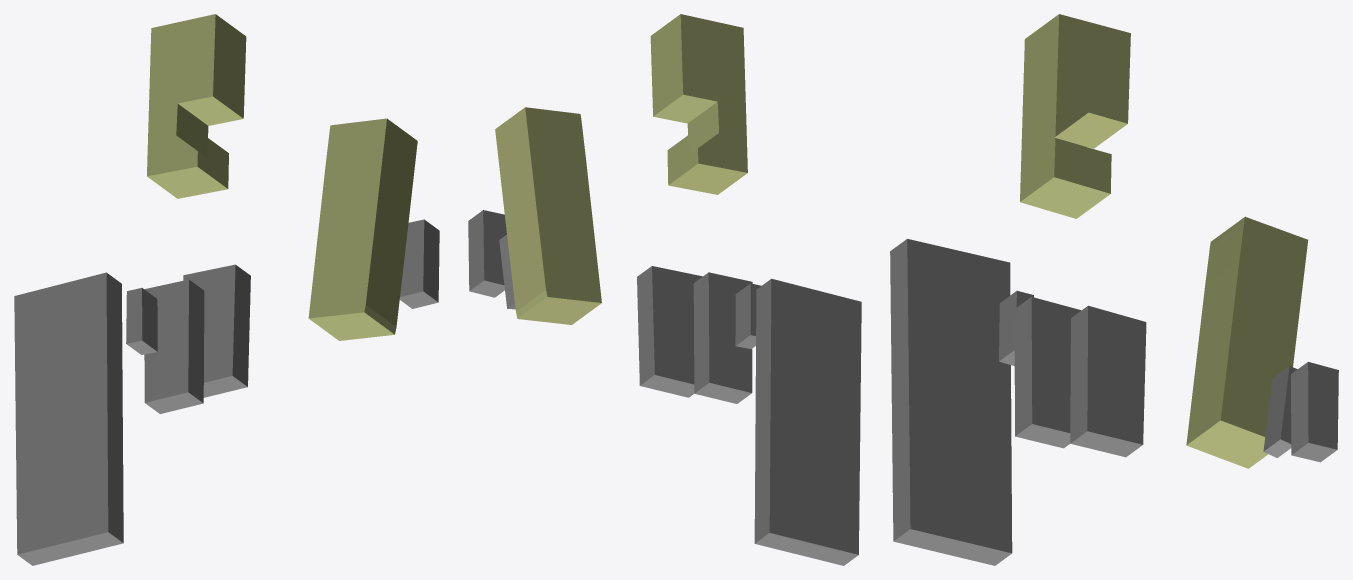
3 renders of one model, left to right at view 1: azimuth 30°, elevation 25°; view 2: azimuth 150°, elevation 25°; view 3: azimuth 330°, elevation 25°, orthographic. The views are drawn at different scales.
Parts seen in each view (by area): view 1: 0_1_2_0_0_3_2_2_2; view 2: 0_1_2_0_0_3_2_2_2; view 3: 0_1_2_0_0_3_2_2_2.
Boxes of the visible parts, x1,y1,x2,y2 form: 0_1_2_0_0_3_2_2_2: (14,14,439,565); 0_1_2_0_0_3_2_2_2: (468,14,861,565); 0_1_2_0_0_3_2_2_2: (890,14,1338,565).
Size of the model in its own units: 44.87 by 53.21 by 7.32.
